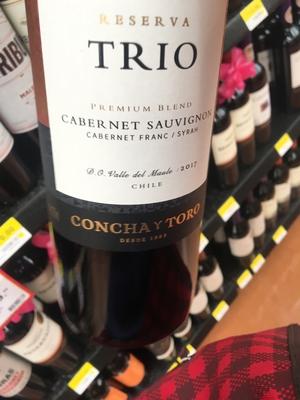trio cabernet sauvignon: (24, 1, 231, 343)
